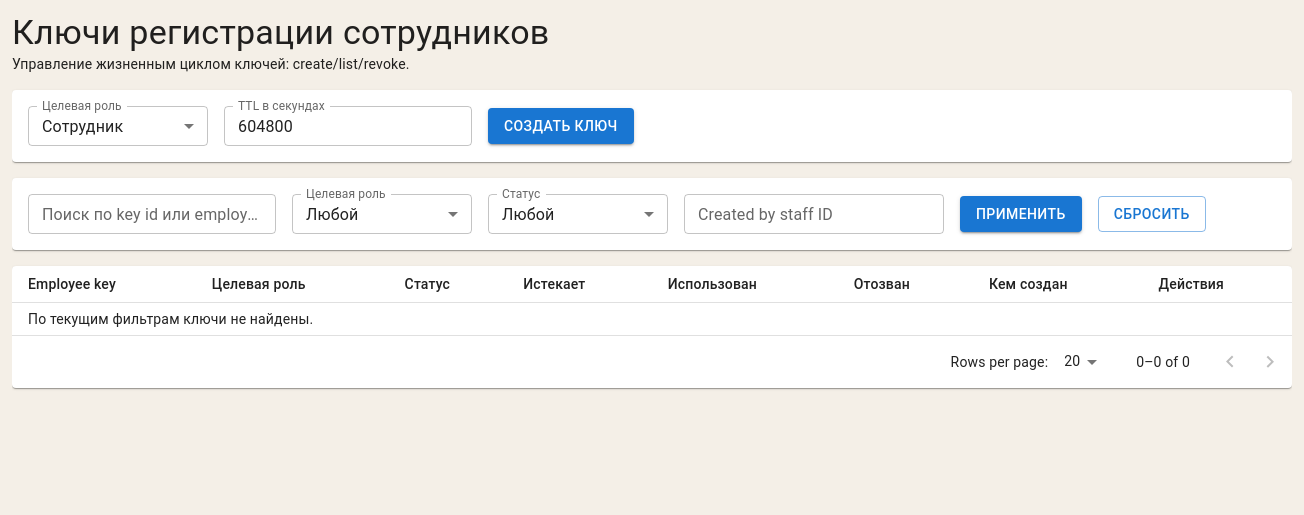
Test: AdminEmployeeKeysManagementPage › creates employee key and shows success feedback
Expected: the text "По текущим фильтрам ключи не найдены." is shown, [12, 302, 1292, 336]
Click the button "Создать ключ".
click(561, 126)  # box [488, 108, 634, 144]
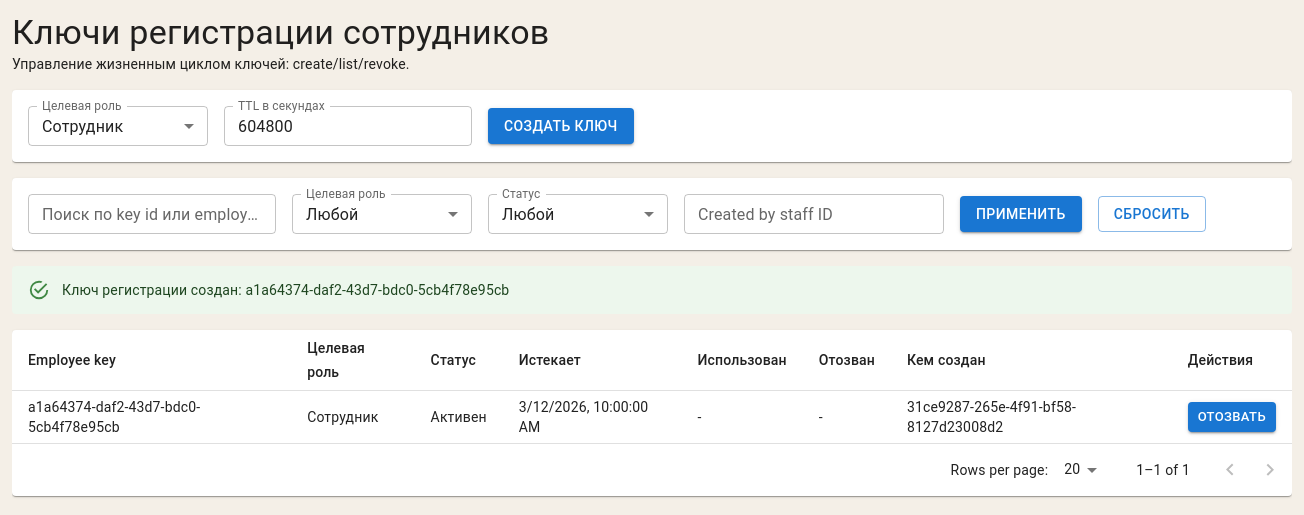
Expected: the text "Ключ регистрации создан" is shown, [62, 282, 509, 298]
